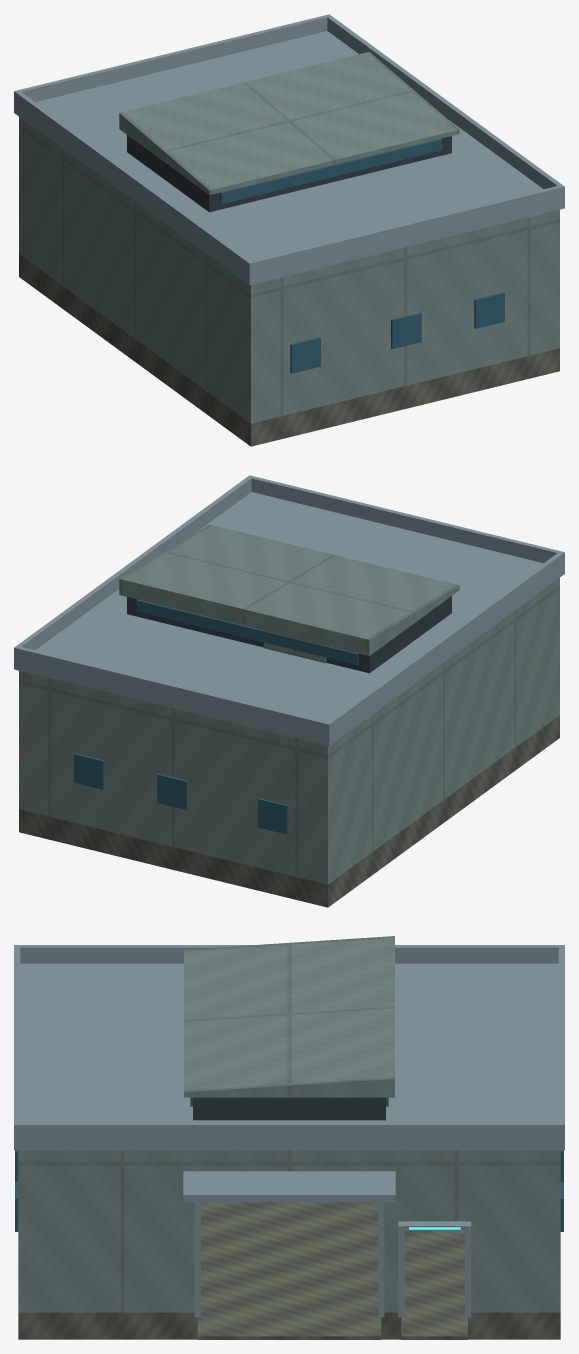
The model's file is Halo_ServiceShop.glb.
3 renders of one model, top to bottom at view 1: azimuth 30°, elevation 25°; view 2: azimuth 150°, elevation 25°; view 3: azimuth 270°, elevation 25°, orthographic. The views are drawn at different scales.
Visible parts, largest first — view 1: Halo_ServiceShop_GroundShell, Halo_ServiceShop_Roof, Halo_ServiceShop_RoofMonitor, Halo_ServiceShop_Foundation, Halo_ServiceShop_GroundWindows; view 2: Halo_ServiceShop_GroundShell, Halo_ServiceShop_Roof, Halo_ServiceShop_RoofMonitor, Halo_ServiceShop_Foundation, Halo_ServiceShop_GroundWindows; view 3: Halo_ServiceShop_Roof, Halo_ServiceShop_GroundShell, Halo_ServiceShop_RoofMonitor, Halo_ServiceShop_Foundation, Halo_ServiceShop_ThresholdRamp, Halo_ServiceShop_PortalFixture, Halo_ServiceShop_PortalFrame, Halo_ServiceShop_GroundWindows.
Part boxes in pixels (x1,y1,x2,y2): Halo_ServiceShop_GroundShell: (19, 117, 559, 423); Halo_ServiceShop_Roof: (14, 14, 564, 285); Halo_ServiceShop_RoofMonitor: (119, 52, 459, 212); Halo_ServiceShop_Foundation: (19, 254, 559, 446); Halo_ServiceShop_GroundWindows: (290, 292, 504, 373); Halo_ServiceShop_GroundShell: (19, 578, 559, 884); Halo_ServiceShop_Roof: (14, 475, 564, 746); Halo_ServiceShop_RoofMonitor: (119, 524, 459, 673); Halo_ServiceShop_Foundation: (19, 715, 559, 907); Halo_ServiceShop_GroundWindows: (74, 753, 288, 834); Halo_ServiceShop_Roof: (14, 945, 564, 1150); Halo_ServiceShop_GroundShell: (18, 1150, 560, 1312); Halo_ServiceShop_RoofMonitor: (184, 936, 394, 1120); Halo_ServiceShop_Foundation: (18, 1202, 560, 1339); Halo_ServiceShop_ThresholdRamp: (197, 1312, 467, 1339); Halo_ServiceShop_PortalFixture: (183, 1171, 395, 1202); Halo_ServiceShop_PortalFrame: (194, 1202, 471, 1317); Halo_ServiceShop_GroundWindows: (15, 1150, 563, 1231).
Bounding box in the file's own units: 11.45 × 6.45 × 13.2.
6 materials, 2 textured.
